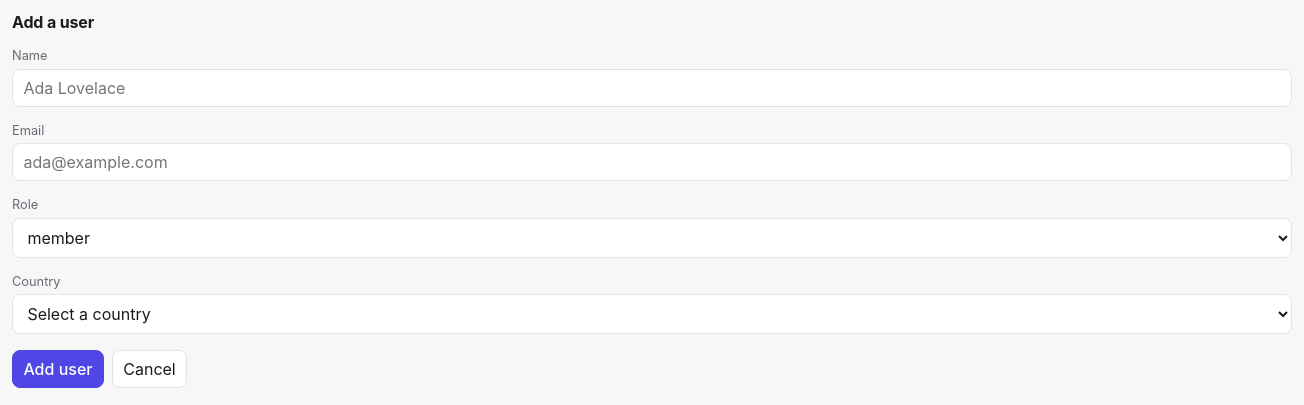
Test: UserForm › create mode › clears the form after a successful save
Type "Grace" into the field labelled "Name". click: (652, 88)
box: [12,69,1292,107]
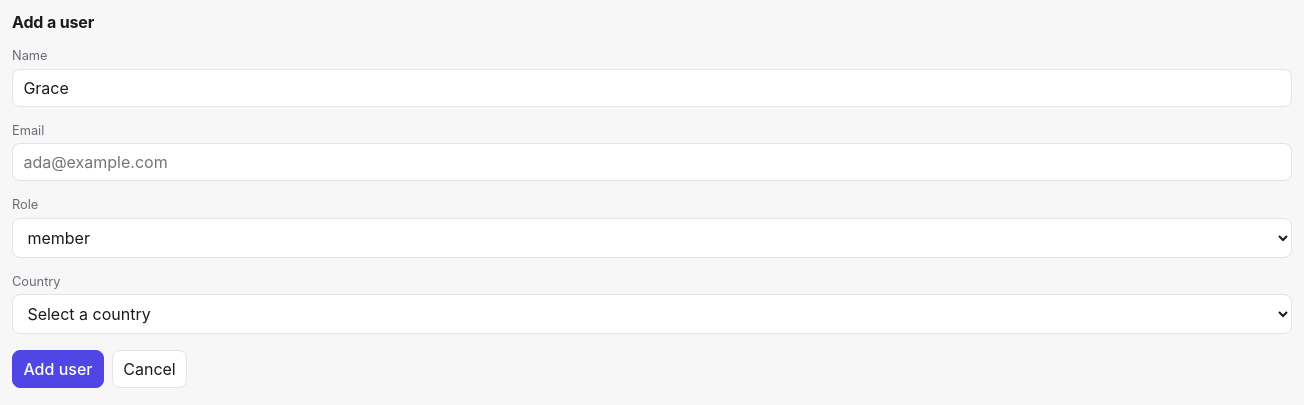
Type "grace@example.com" into the field labelled "Email". click: (652, 162)
box: [12,143,1292,181]
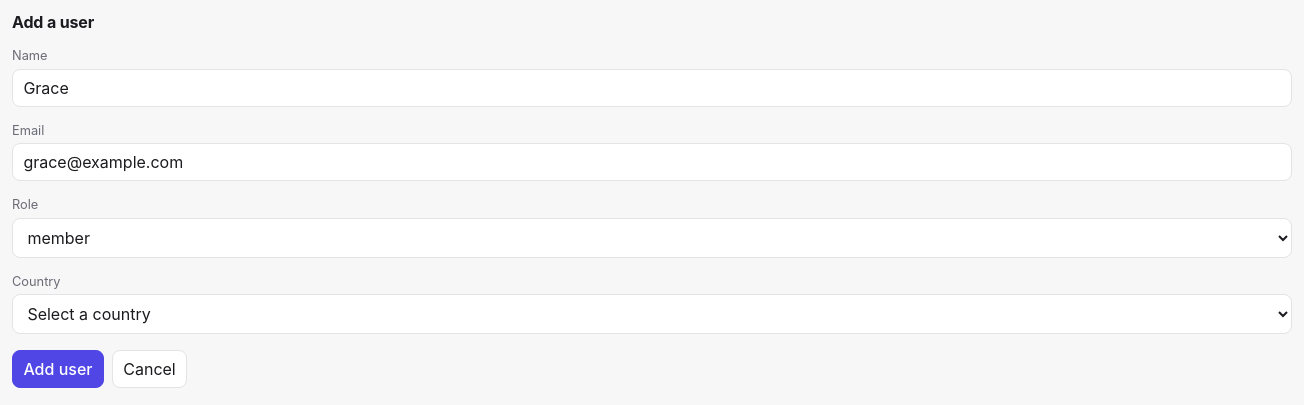
Select "admin" in the dropdown labelled "Role". click: (652, 238)
box: [12,218,1292,258]
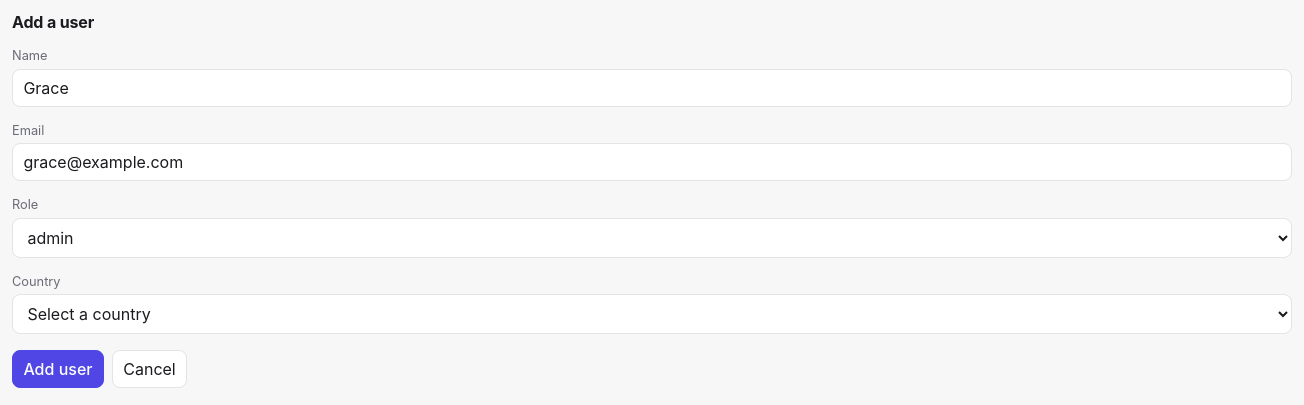
Select "United States" in the dropdown labelled "Country". click: (652, 314)
box: [12,294,1292,334]
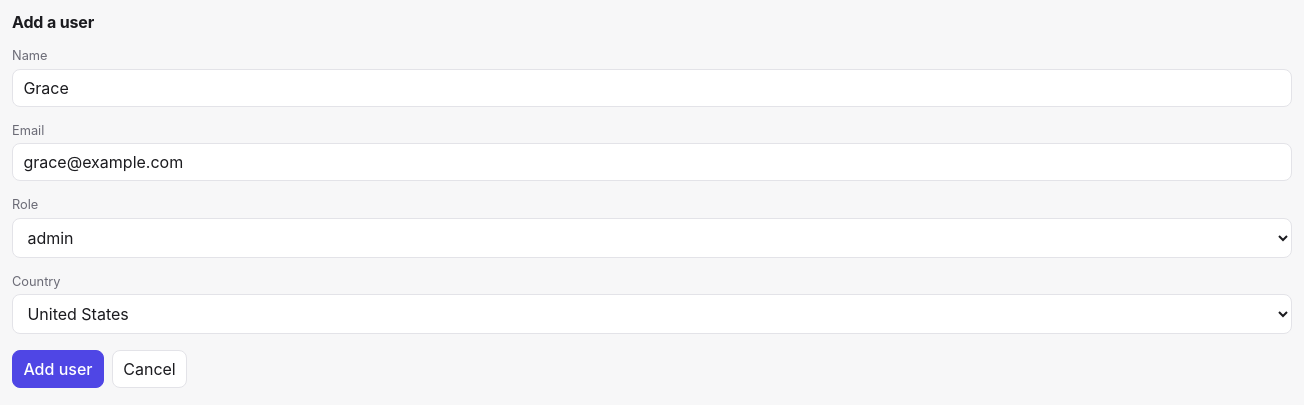
Submit the form
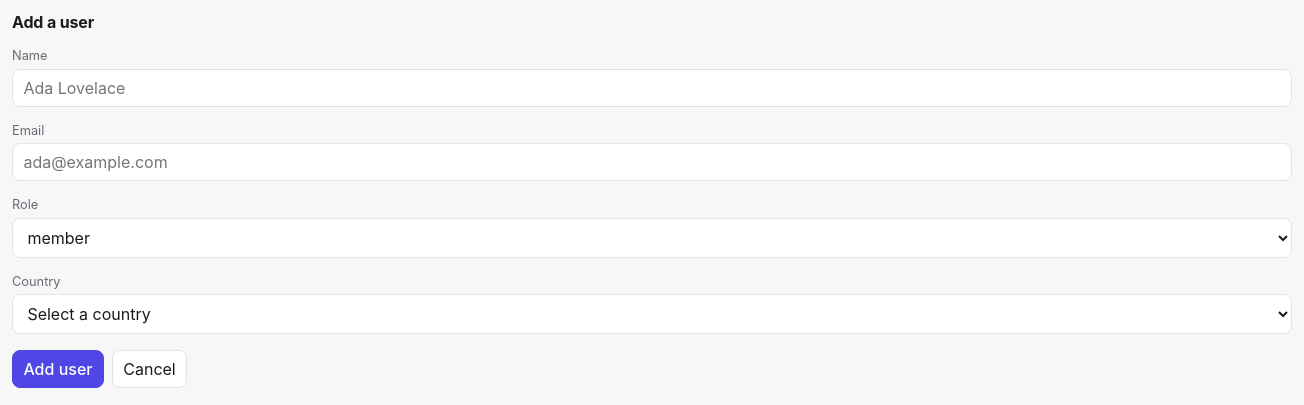
Result: the field labelled "Name" is empty at [12,69,1292,107]
Result: the field labelled "Email" is empty at [12,143,1292,181]
